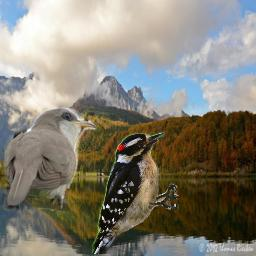Cuckoo: (0, 107, 96, 212)
Woodpecker: (92, 132, 179, 254)
